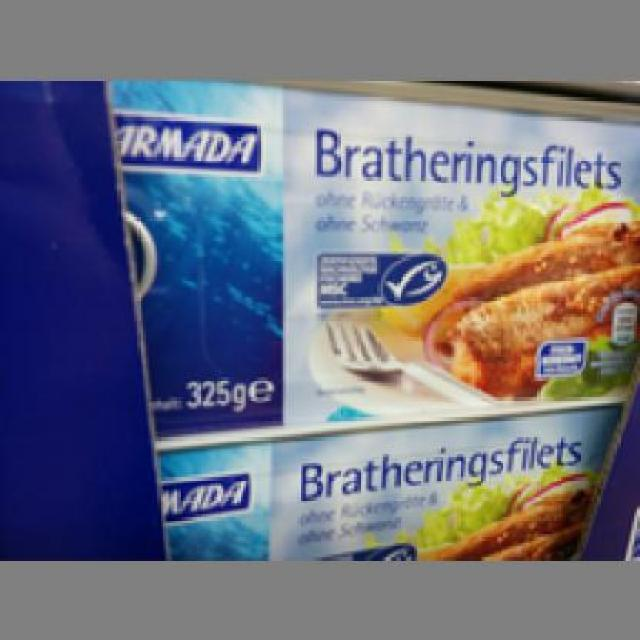Fish: (102, 80, 638, 437), (131, 405, 624, 558)
